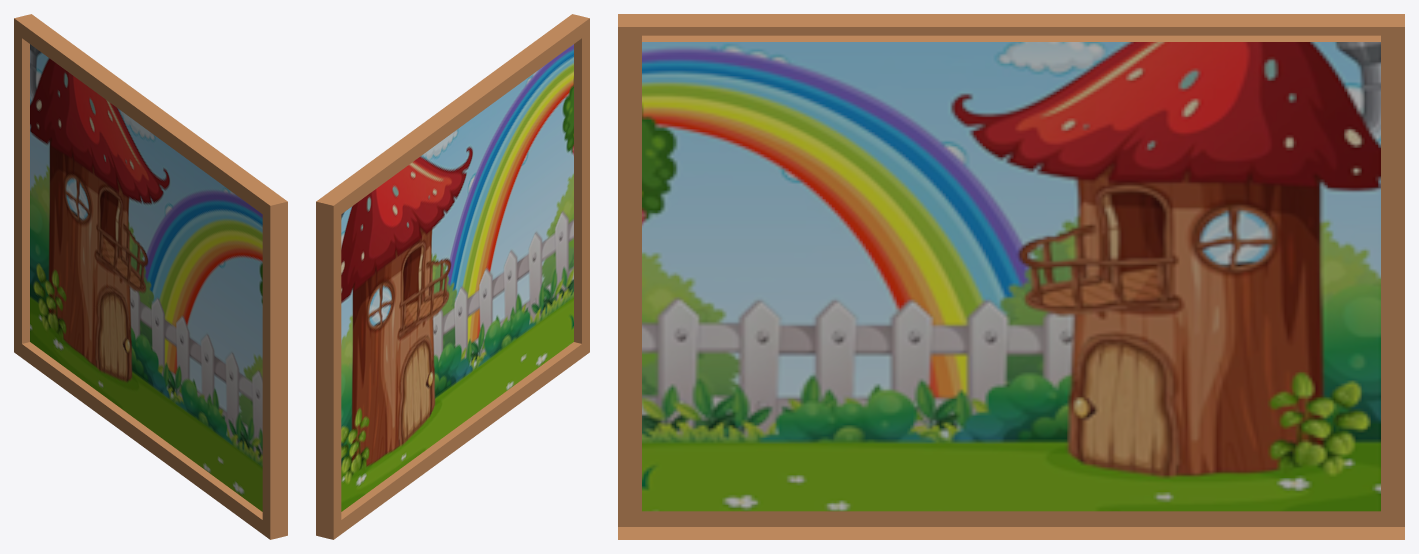
The model's file is picture.FBX.
3 views of the same model, side by side, from view 1: azimuth 30°, elevation 25°; view 2: azimuth 150°, elevation 25°; view 3: azimuth 270°, elevation 25° (orthographic). The views are drawn at different scales.
Parts seen in each view (by area): view 1: Box1926; view 2: Box1926; view 3: Box1926.
Part boxes in pixels (x1,y1,x2,y2): Box1926: (14,14,287,539); Box1926: (316,14,589,539); Box1926: (618,14,1404,539).
Bounding box in the file's own units: 0.1659 × 3.03 × 4.21.
